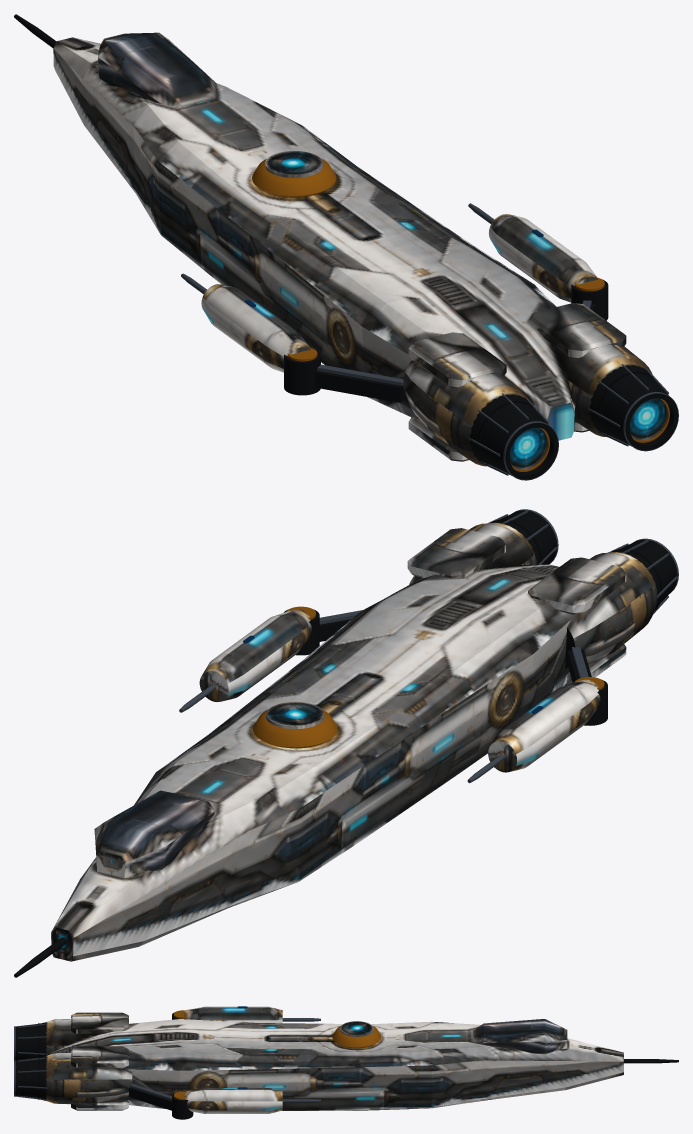
Rendered from scout.obj.
The picture shows the model from 3 angles, top to bottom: view 1: azimuth 30°, elevation 25°; view 2: azimuth 150°, elevation 25°; view 3: azimuth 270°, elevation 25°; orthographic projection. The views are drawn at different scales.
Visible parts, largest first — view 1: hull_|_slender_reconnaissance_fuselage, bridge_|_faceted_command_cabin, enginecase.port_|_pressure_casing, sensor.starboard_|_remote_sensor_pod, sensor.port_|_remote_sensor_pod, engine.starboard_|_hollow_nozzle, engine.port_|_hollow_nozzle, armor.engine.port_|_upper_cowl, armor.engine.starboard_|_upper_cowl, enginecase.starboard_|_pressure_casing, sensor_|_dorsal_scanner_bezel, structure.port_|_swept_outrigger (+6 smaller); view 2: hull_|_slender_reconnaissance_fuselage, bridge_|_faceted_command_cabin, enginecase.port_|_pressure_casing, sensor.port_|_remote_sensor_pod, sensor.starboard_|_remote_sensor_pod, armor.engine.port_|_upper_cowl, armor.engine.starboard_|_upper_cowl, sensor_|_dorsal_scanner_bezel, enginecase.starboard_|_pressure_casing, engine.port_|_hollow_nozzle, engine.starboard_|_hollow_nozzle, sensor_|_scanner_lens; view 3: hull_|_slender_reconnaissance_fuselage, enginecase.starboard_|_pressure_casing, bridge_|_faceted_command_cabin, sensor.starboard_|_remote_sensor_pod, sensor.port_|_remote_sensor_pod, armor.engine.starboard_|_upper_cowl, armor.engine.port_|_upper_cowl, engine.starboard_|_hollow_nozzle, engine.port_|_hollow_nozzle, enginecase.port_|_pressure_casing, sensor_|_dorsal_scanner_bezel, keel.engine.starboard_|_lower_cowl (+5 smaller).
Part boxes in pixels (x1,y1,x2,y2): hull_|_slender_reconnaissance_fuselage: [53, 37, 575, 440]; bridge_|_faceted_command_cabin: [98, 32, 217, 106]; enginecase.port_|_pressure_casing: [403, 360, 532, 466]; sensor.starboard_|_remote_sensor_pod: [488, 214, 598, 302]; sensor.port_|_remote_sensor_pod: [201, 284, 310, 372]; engine.starboard_|_hollow_nozzle: [590, 365, 678, 450]; engine.port_|_hollow_nozzle: [470, 394, 558, 479]; armor.engine.port_|_upper_cowl: [408, 332, 506, 387]; armor.engine.starboard_|_upper_cowl: [528, 303, 626, 358]; enginecase.starboard_|_pressure_casing: [554, 344, 652, 437]; sensor_|_dorsal_scanner_bezel: [252, 159, 336, 197]; structure.port_|_swept_outrigger: [314, 371, 406, 402]; hull_|_slender_reconnaissance_fuselage: [51, 564, 570, 961]; bridge_|_faceted_command_cabin: [94, 790, 214, 878]; enginecase.port_|_pressure_casing: [563, 552, 657, 669]; sensor.port_|_remote_sensor_pod: [488, 679, 600, 772]; sensor.starboard_|_remote_sensor_pod: [199, 609, 311, 701]; armor.engine.port_|_upper_cowl: [528, 557, 626, 614]; armor.engine.starboard_|_upper_cowl: [407, 528, 505, 578]; sensor_|_dorsal_scanner_bezel: [253, 710, 337, 748]; enginecase.starboard_|_pressure_casing: [409, 522, 536, 584]; engine.port_|_hollow_nozzle: [612, 540, 677, 609]; engine.starboard_|_hollow_nozzle: [491, 510, 556, 564]; sensor_|_scanner_lens: [266, 702, 324, 728]; hull_|_slender_reconnaissance_fuselage: [50, 1019, 623, 1110]; enginecase.starboard_|_pressure_casing: [46, 1052, 132, 1104]; bridge_|_faceted_command_cabin: [470, 1019, 567, 1054]; sensor.starboard_|_remote_sensor_pod: [184, 1088, 282, 1113]; sensor.port_|_remote_sensor_pod: [184, 1006, 282, 1023]; armor.engine.starboard_|_upper_cowl: [71, 1046, 128, 1068]; armor.engine.port_|_upper_cowl: [71, 1012, 128, 1034]; engine.starboard_|_hollow_nozzle: [15, 1056, 46, 1100]; engine.port_|_hollow_nozzle: [15, 1022, 46, 1060]; enginecase.port_|_pressure_casing: [46, 1019, 96, 1055]; sensor_|_dorsal_scanner_bezel: [332, 1026, 381, 1047]; keel.engine.starboard_|_lower_cowl: [71, 1099, 128, 1110].
Bounding box in the file's own units: 6.53 × 2.32 × 19.92.
7 materials, 2 textured.
